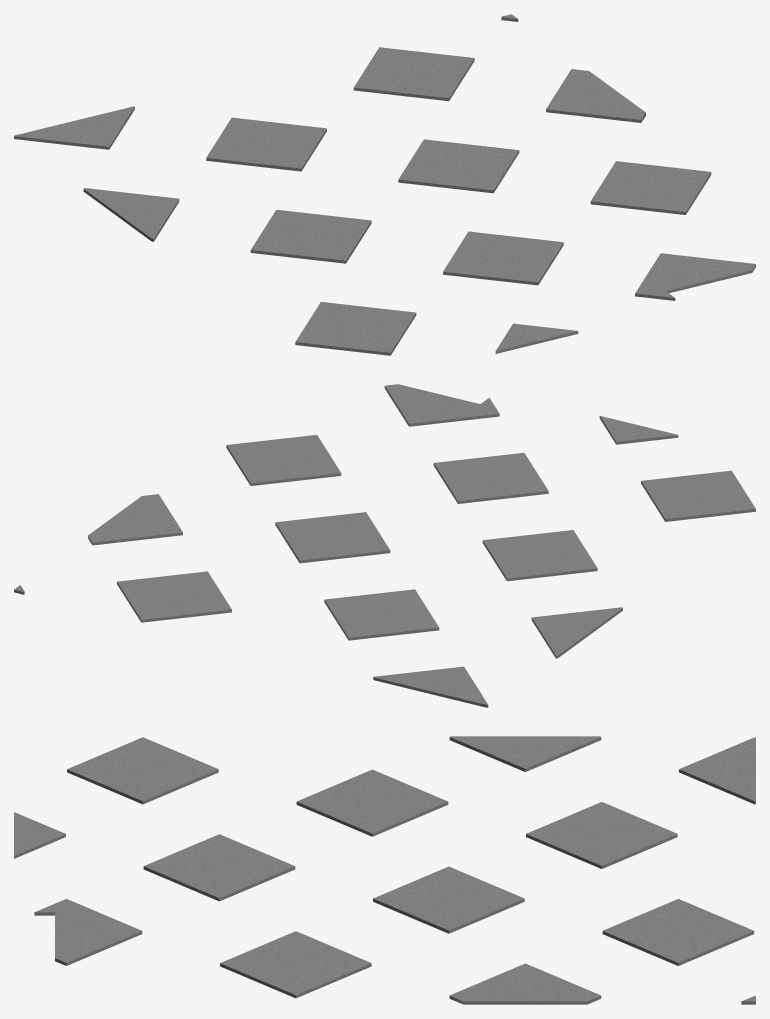
The model's file is ADSK_83.obj.
3 views of the same model, one above another, from view 1: azimuth 30°, elevation 25°; view 2: azimuth 150°, elevation 25°; view 3: azimuth 270°, elevation 25° (orthographic). The views are drawn at different scales.
Size of the model in its own units: 1.76 by 0.01 by 2.07.
Materials: 1 (1 with a texture image).
